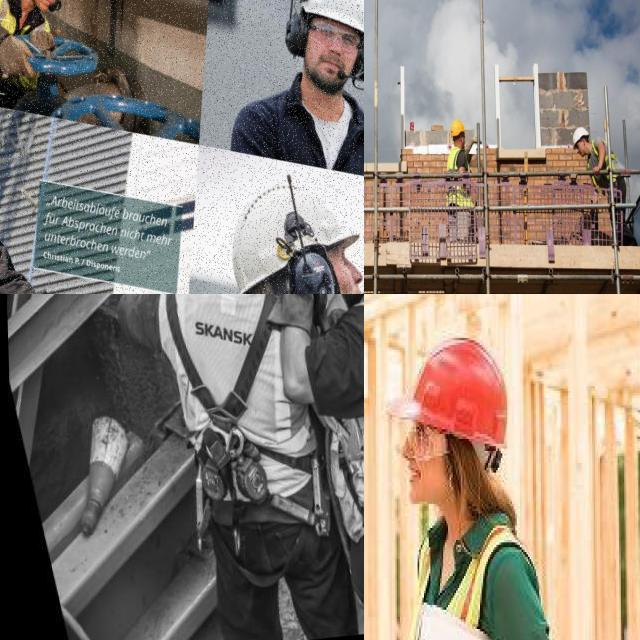Harness: (165, 294, 274, 504)
No_Glasses: (327, 249, 354, 269)
face_nomask: (397, 415, 478, 523), (304, 31, 355, 94), (337, 265, 362, 294), (35, 0, 58, 13)
glasses: (388, 405, 441, 463), (308, 23, 360, 51)
hand_glove: (0, 35, 36, 79)
hand_noglove: (590, 158, 604, 182)
head_helmet: (402, 319, 515, 453), (233, 186, 359, 294), (302, 0, 364, 35), (572, 127, 588, 147), (450, 117, 465, 137)
person: (369, 309, 569, 640), (574, 126, 637, 245), (445, 115, 479, 242)
vest: (392, 506, 565, 640), (447, 147, 474, 211)
